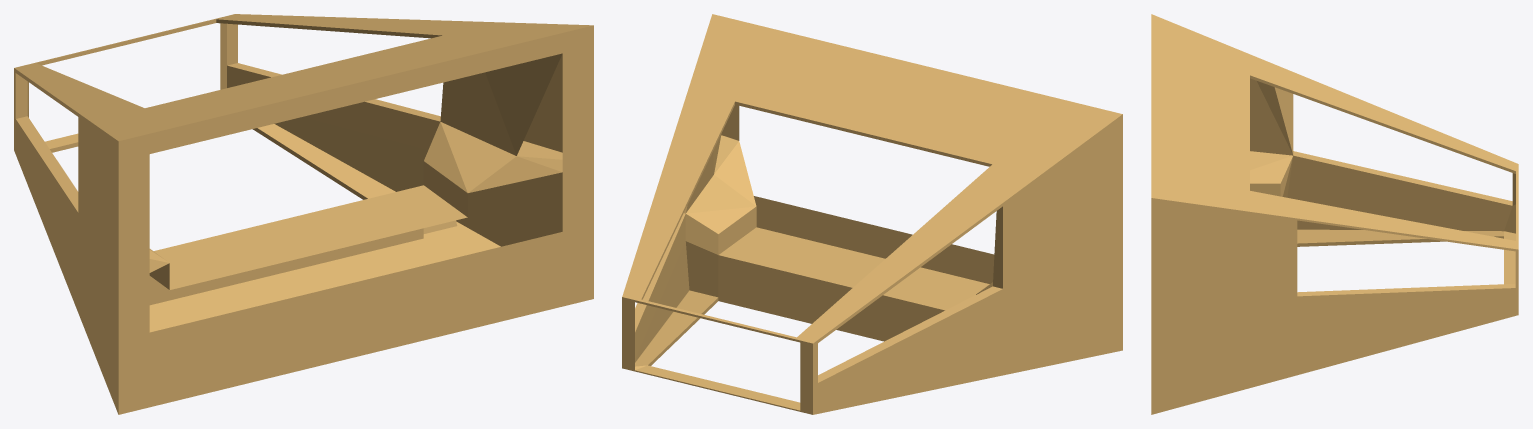
File: BrigeExterior.glb
The picture shows the model from 3 angles, left to right: view 1: azimuth 30°, elevation 25°; view 2: azimuth 150°, elevation 25°; view 3: azimuth 270°, elevation 25°; orthographic projection. The views are drawn at different scales.
Visible parts, largest first — view 1: Cockpit; view 2: Cockpit; view 3: Cockpit.
Part boxes in pixels (x1,y1,x2,y2): Cockpit: (14, 14, 593, 414); Cockpit: (622, 14, 1122, 414); Cockpit: (1151, 14, 1518, 414).
Bounding box in the file's own units: 7.16 × 3.94 × 6.04.
